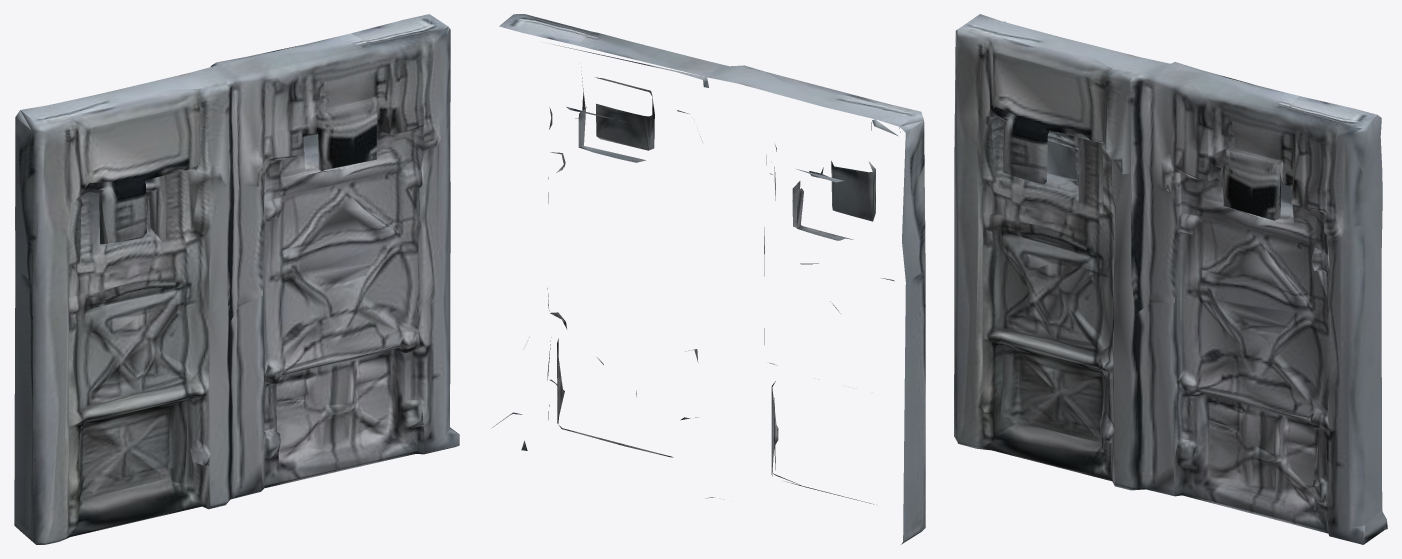
Rendered from hangar_door_tall.glb.
3 views of the same model, side by side, from view 1: azimuth 30°, elevation 25°; view 2: azimuth 150°, elevation 25°; view 3: azimuth 330°, elevation 25° (orthographic).
Visible parts, largest first — view 1: hangar_door_tall; view 2: hangar_door_tall; view 3: hangar_door_tall.
Part boxes in pixels (box(x1,y1,x2,y2)): hangar_door_tall: box(14, 14, 459, 544); hangar_door_tall: box(492, 14, 925, 544); hangar_door_tall: box(954, 14, 1387, 544).
Size of the model in its own units: 0.1231 by 0.1173 by 0.018.
1 material, 1 textured.
